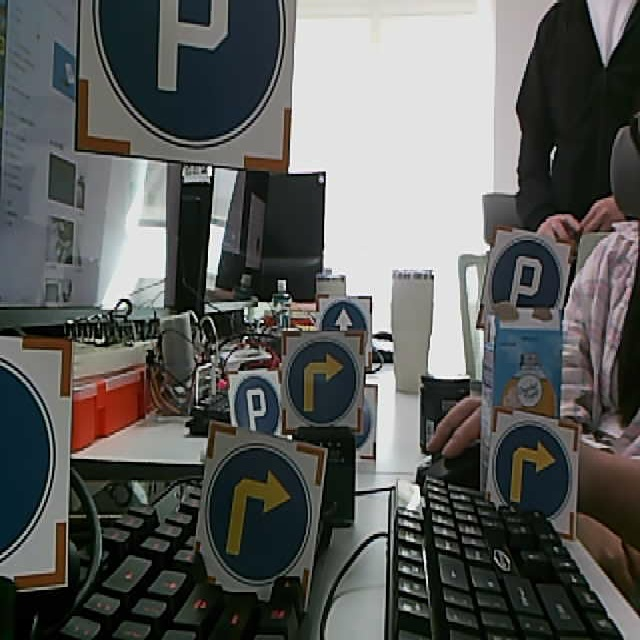parking: (74, 1, 300, 173), (474, 225, 574, 345), (225, 368, 285, 453)
right: (195, 422, 327, 614), (482, 408, 582, 545), (280, 331, 363, 430)
straight: (317, 296, 374, 365)
